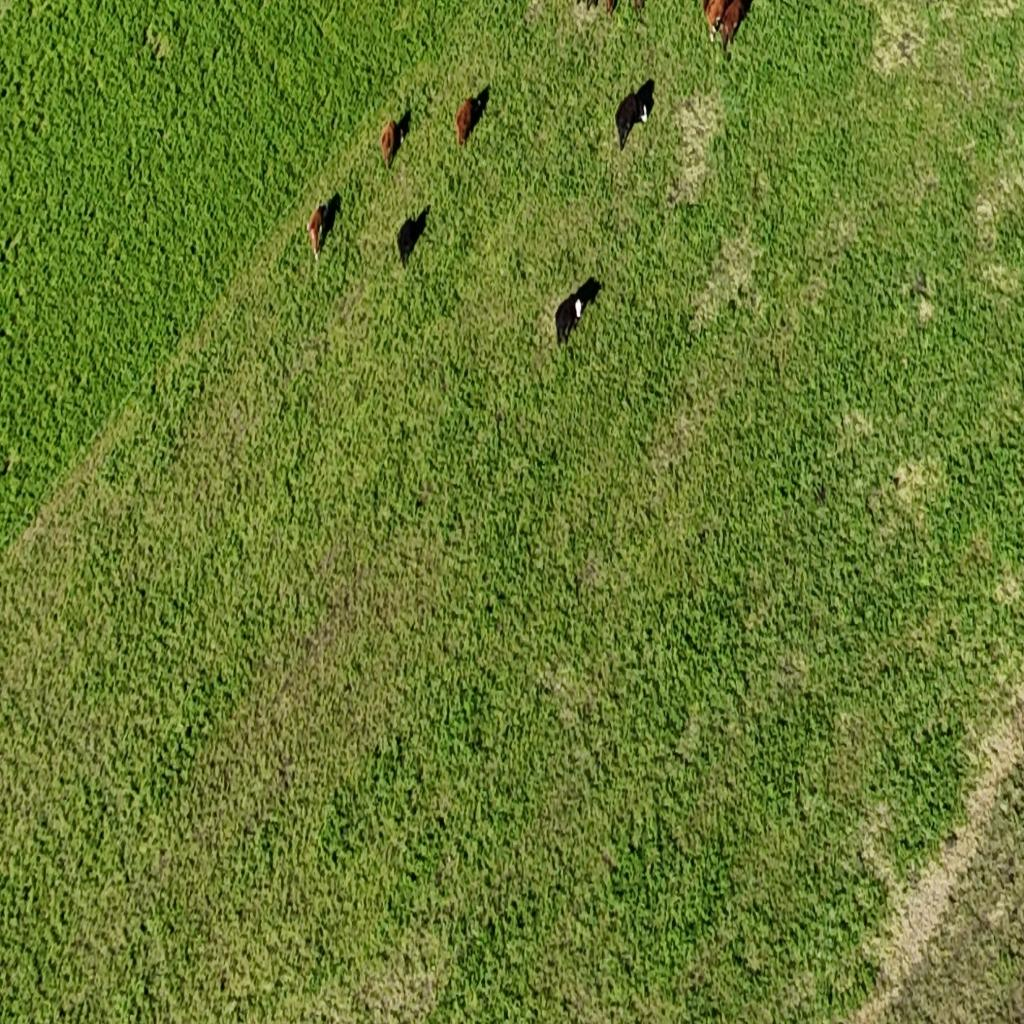cow: (556, 276, 601, 345), (614, 77, 654, 151), (396, 205, 430, 268), (378, 108, 410, 172), (454, 88, 486, 150), (303, 200, 330, 255)
